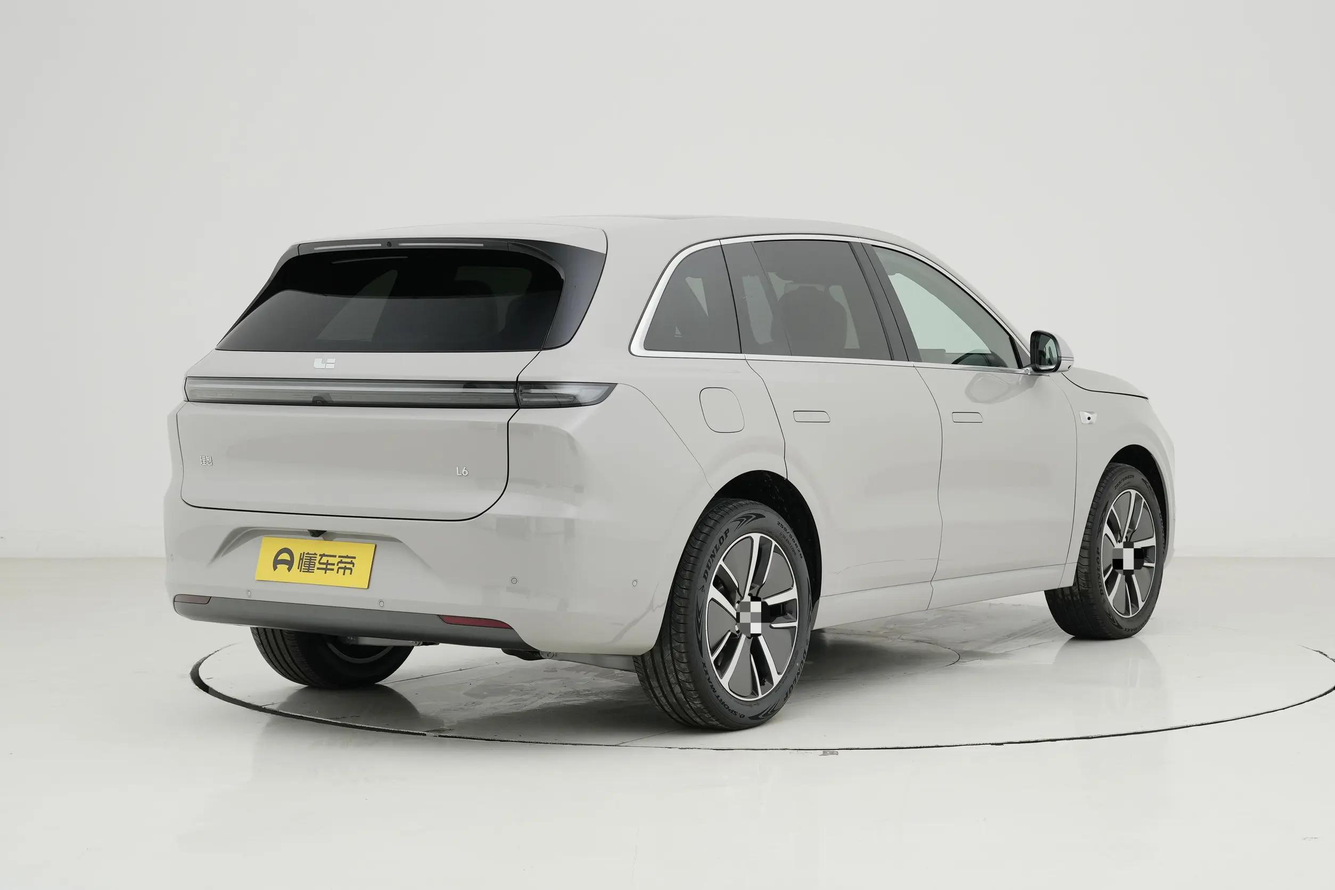Li Auto: (312, 357, 335, 371)
